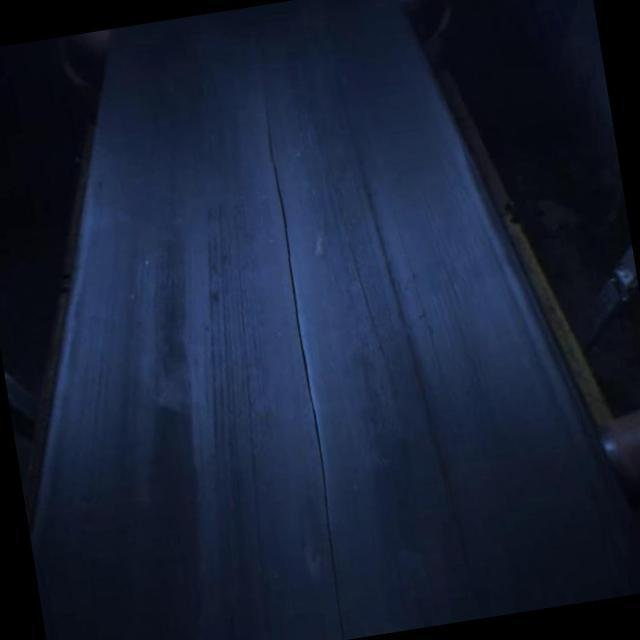Tear: (246, 21, 362, 640)
